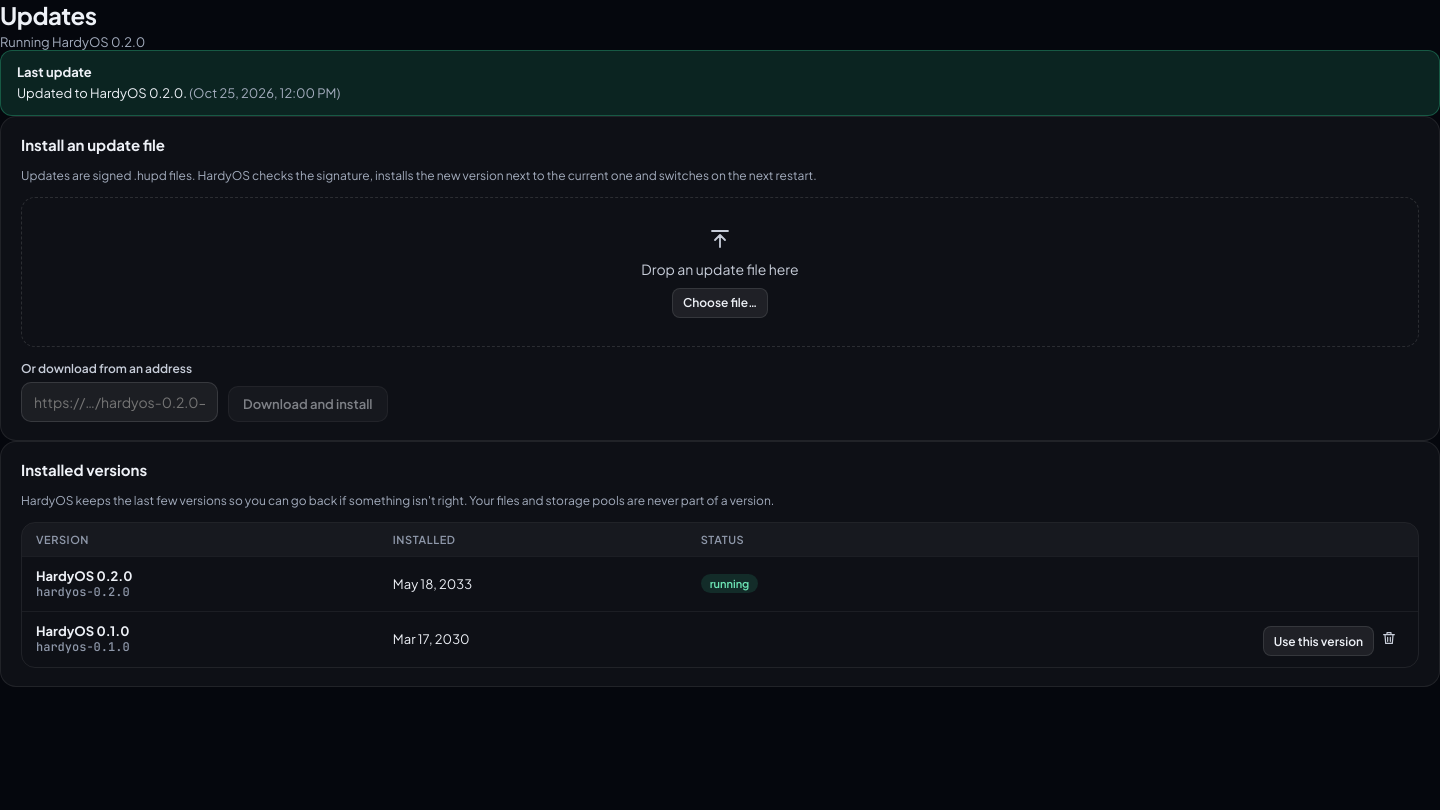
it: Updates › lists versions and goes back to an older one with settings restored
The width and height of the screenshot is (1440, 810).
Check: the text "Running HardyOS 0.2.0" is shown, box x1=0 y1=34 x2=145 y2=50
Check: the text "Updated to HardyOS 0.2.0. (Oct 25, 2026, 12:00 PM)" is shown, box x1=17 y1=85 x2=340 y2=101
Step 1. Click the button "Use this version" → (1318, 641), box x1=1263 y1=626 x2=1374 y2=656
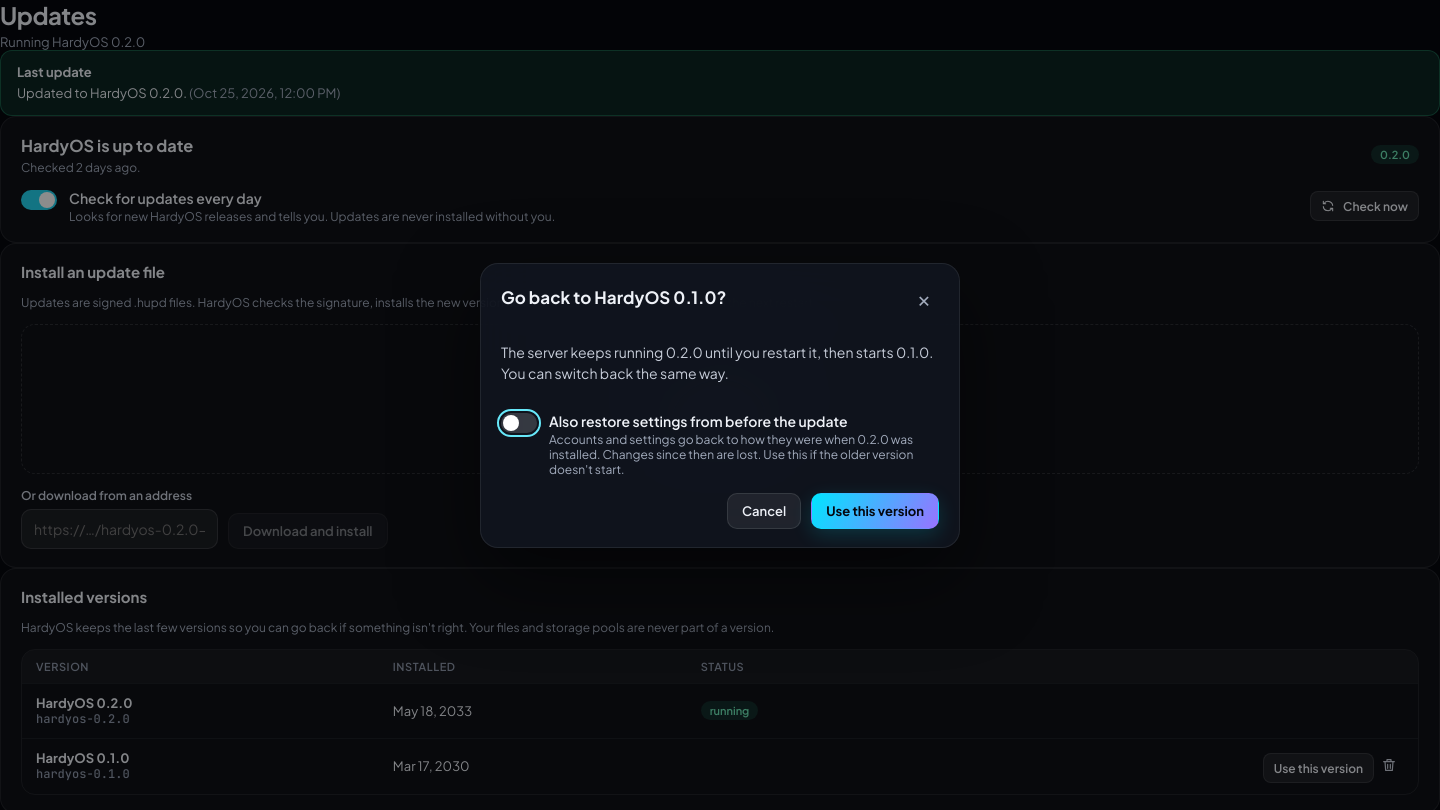
Step 2. Click the switch labelled "Also restore settings" → (720, 444), box x1=501 y1=412 x2=939 y2=476
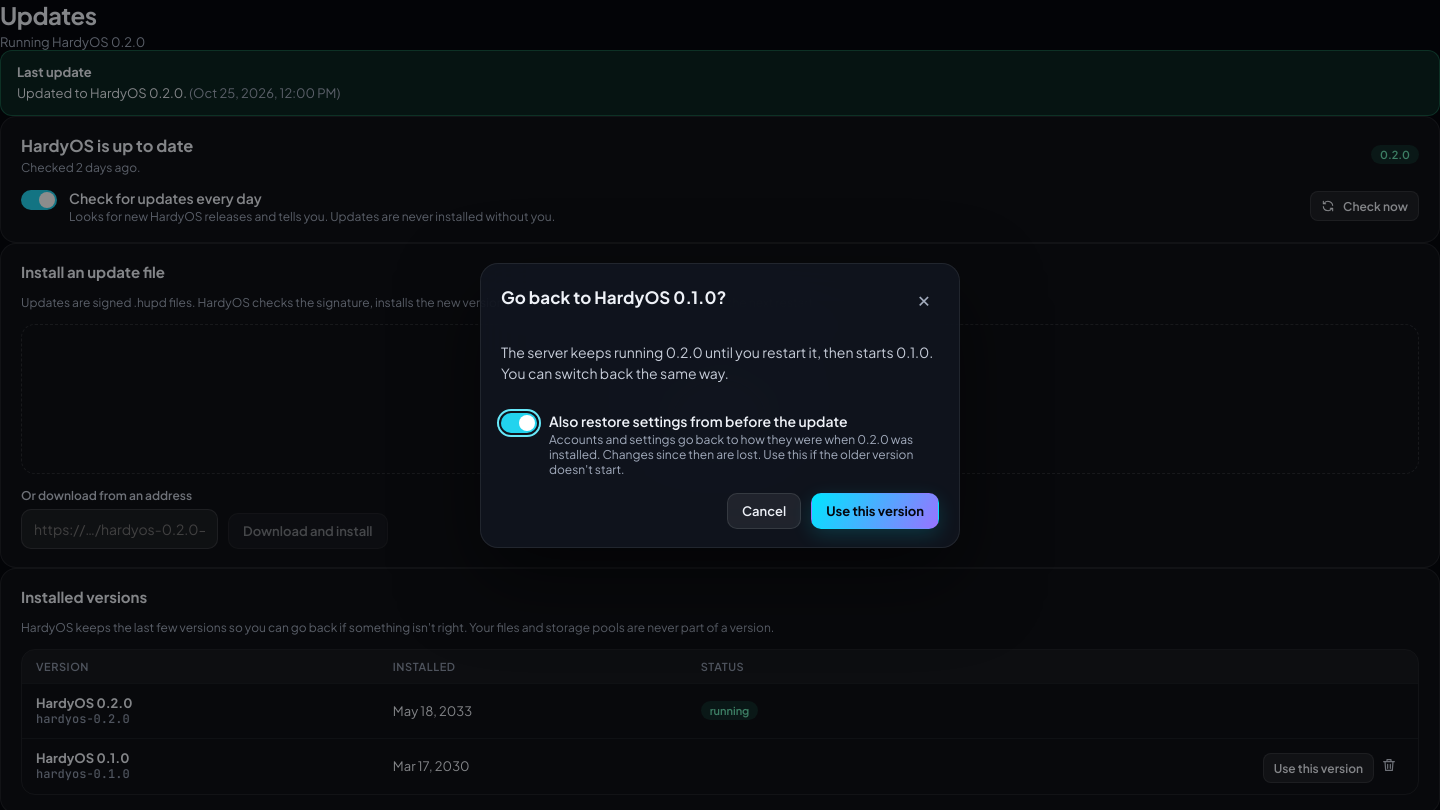
Step 3. Click the button "Use this version" → (875, 510), box x1=811 y1=492 x2=939 y2=528
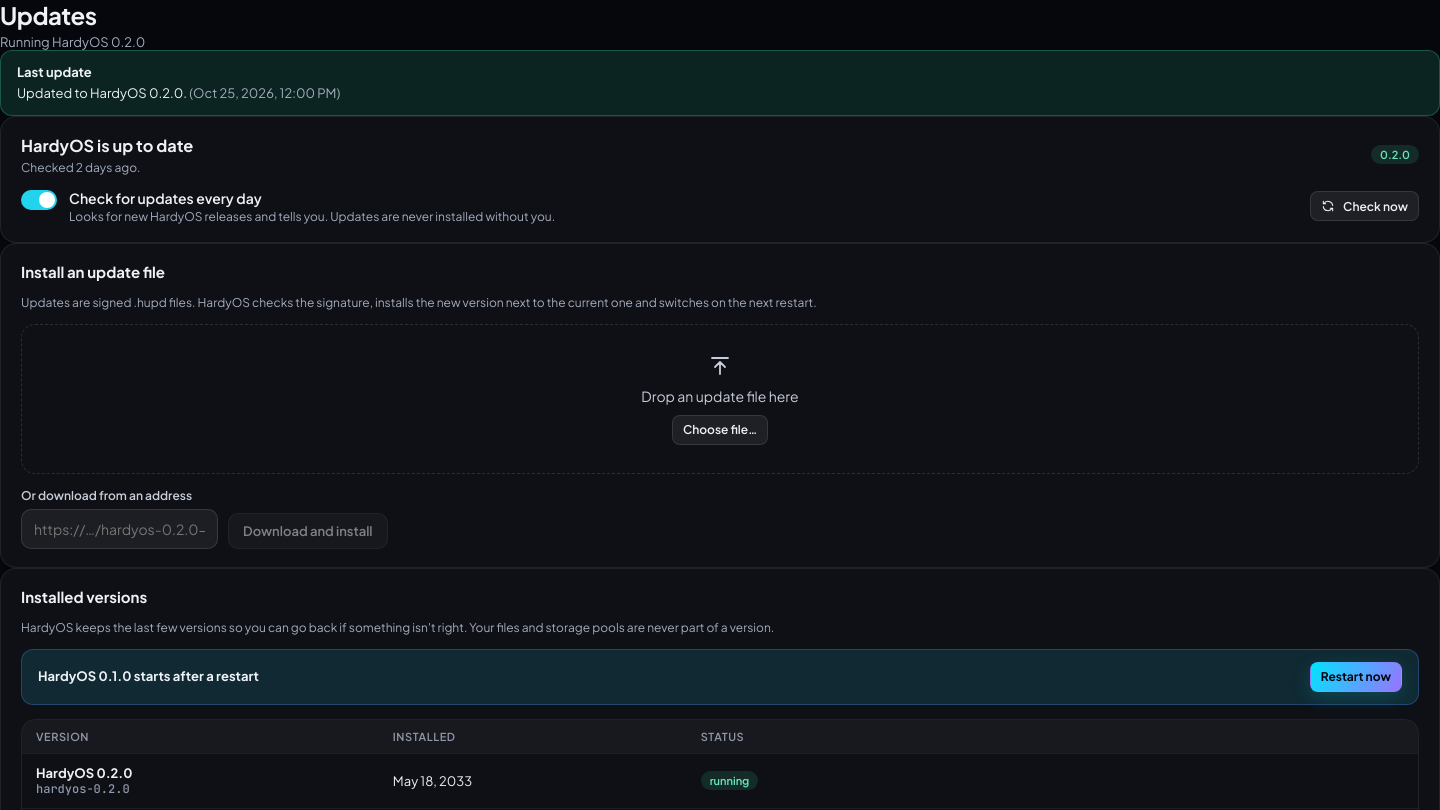
Check: the text "HardyOS 0.1.0 starts after a restart" is shown, box x1=38 y1=668 x2=259 y2=684
